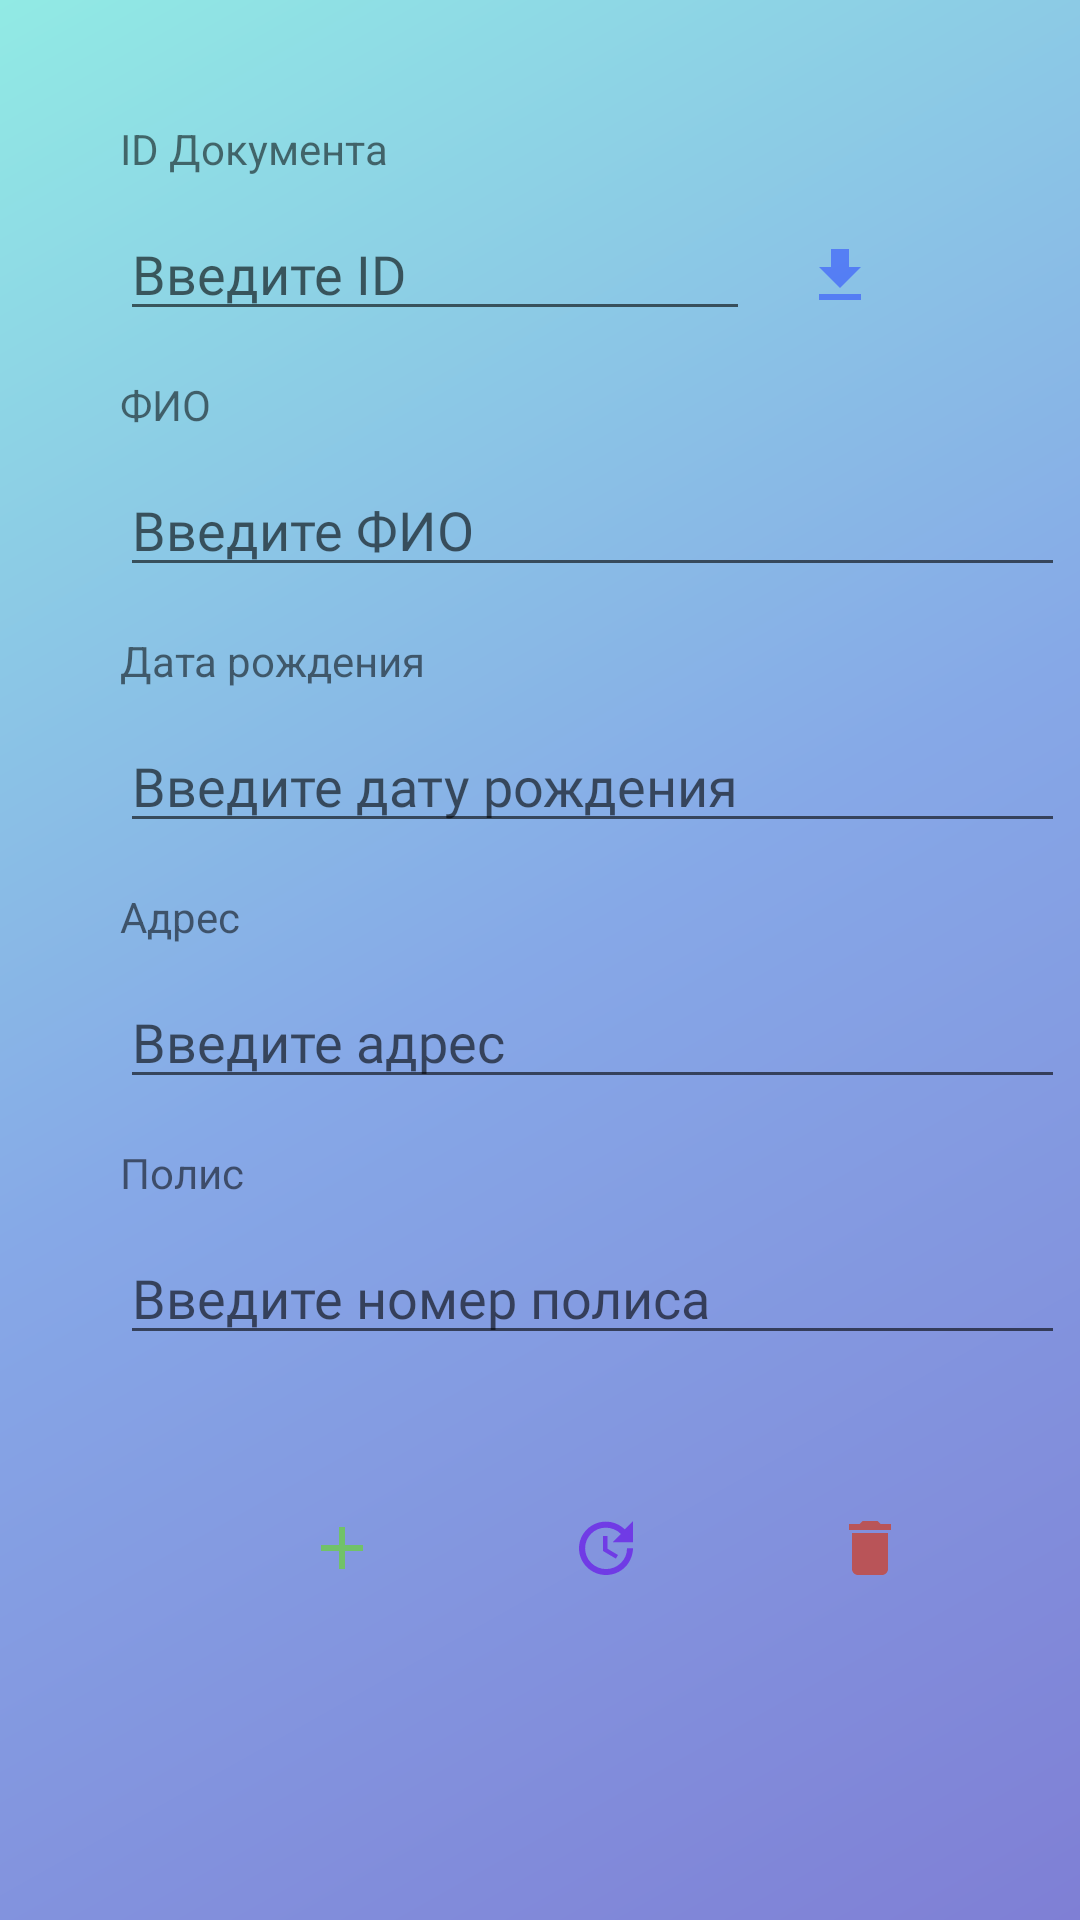

Point at icon controls on the screen. Image size 1080×1920, points as [x,y].
add: [342,1548]
delete: [870,1548]
get: [840,274]
update: [606,1548]
